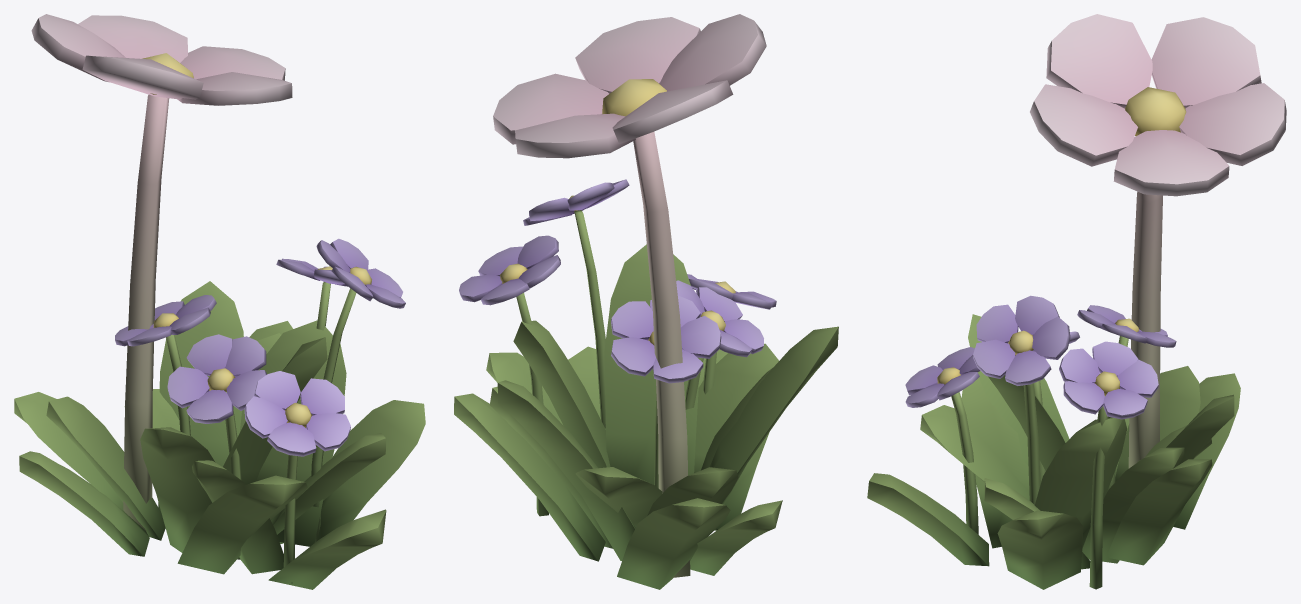
Rendered from flowers_mixed_b.glb.
The picture shows the model from 3 angles, left to right: view 1: azimuth 30°, elevation 25°; view 2: azimuth 150°, elevation 25°; view 3: azimuth 270°, elevation 25°; orthographic projection. The views are drawn at different scales.
Visible parts, largest first — view 1: Flowers_Mixed_B.001; view 2: Flowers_Mixed_B.001; view 3: Flowers_Mixed_B.001.
Part boxes in pixels (x1,y1,x2,y2): Flowers_Mixed_B.001: (14, 14, 425, 589); Flowers_Mixed_B.001: (454, 14, 838, 589); Flowers_Mixed_B.001: (867, 14, 1286, 589).
Bounding box in the file's own units: 0.4146 × 0.6004 × 0.4673.
